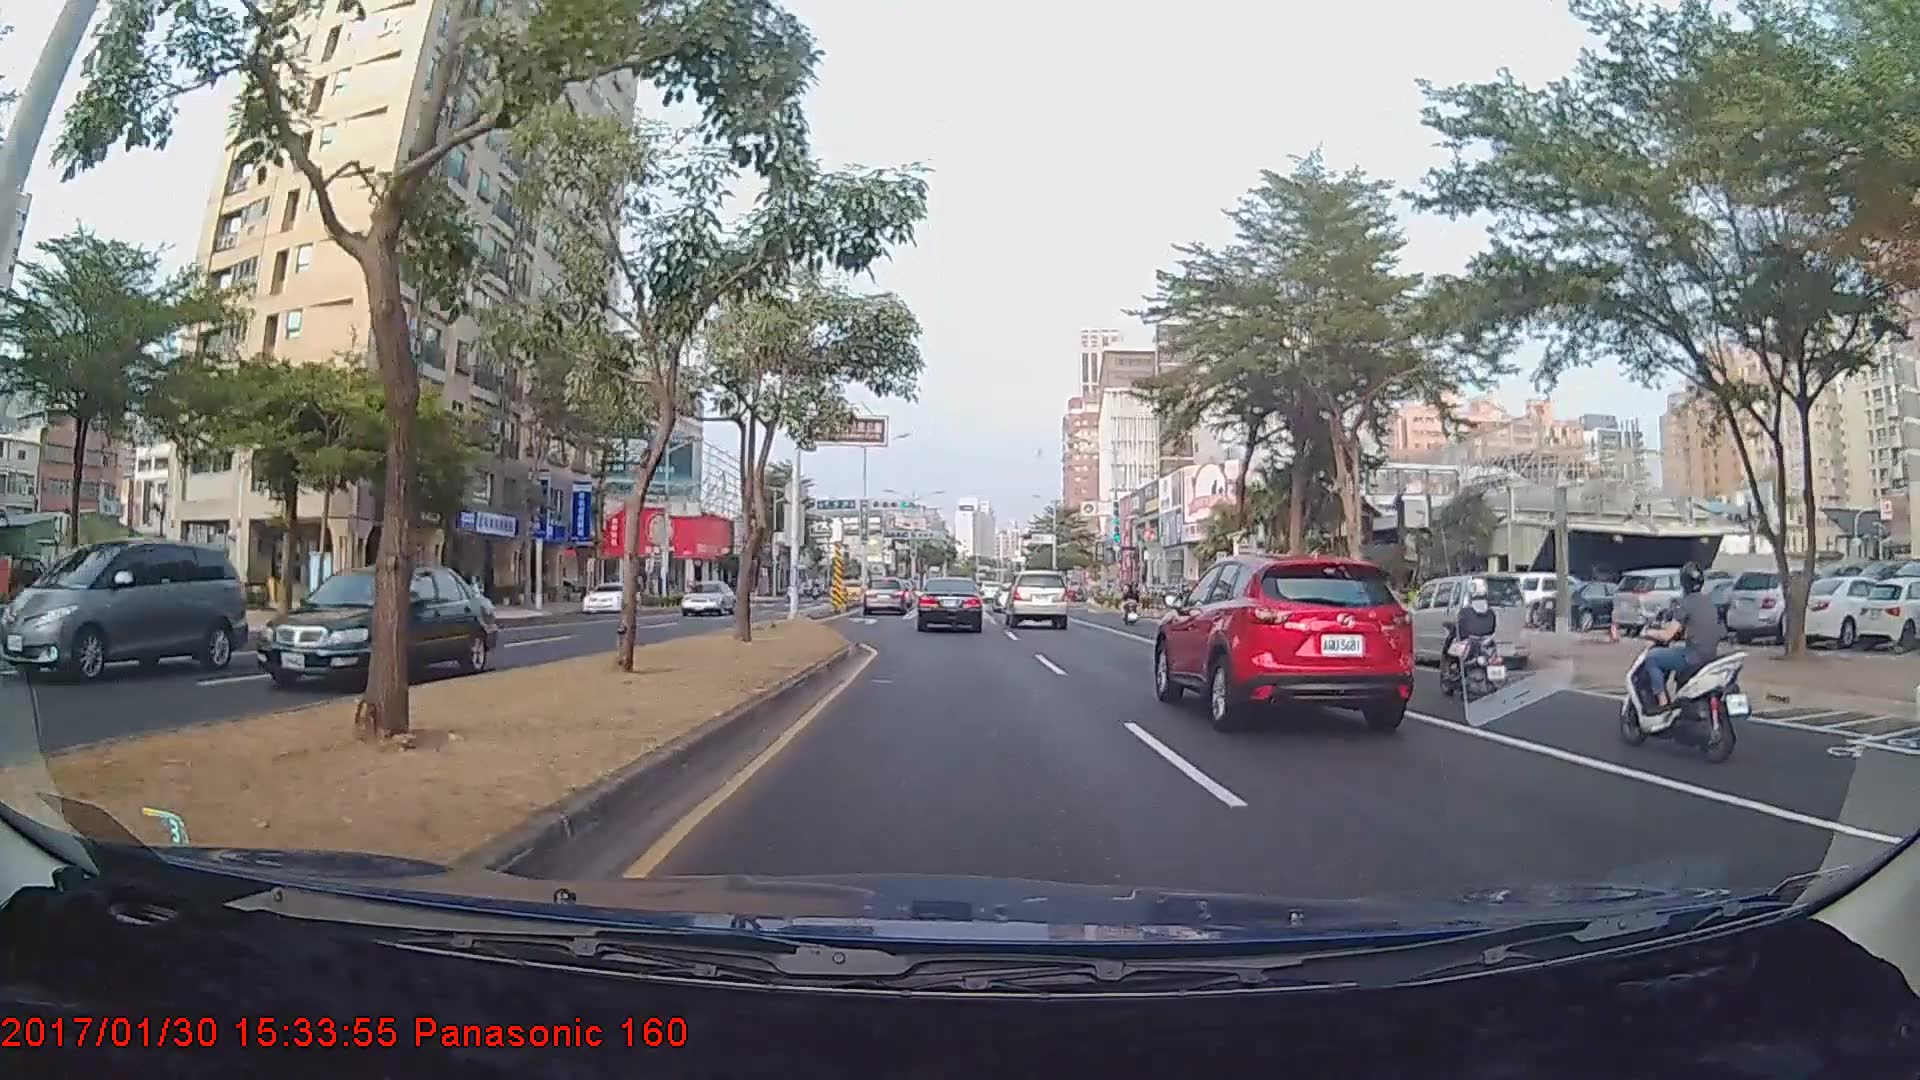rider: (1610, 555, 1759, 762), (1427, 573, 1522, 709), (1123, 586, 1148, 630)
vehicle: (1152, 548, 1412, 729), (0, 538, 247, 682), (253, 561, 496, 689), (1392, 572, 1530, 668), (1608, 567, 1735, 636), (1003, 569, 1070, 629), (915, 576, 984, 633), (580, 578, 638, 614), (678, 579, 735, 616), (862, 576, 910, 617)
